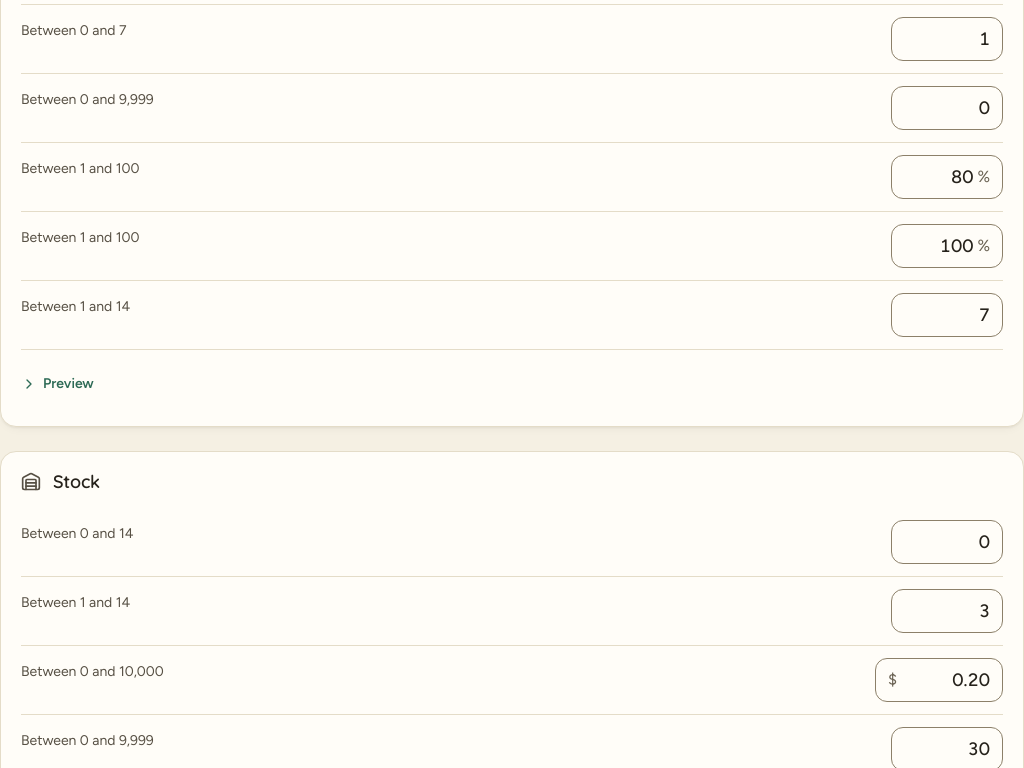
Test: Preview collapsibles (acceptance 13, failure mode 11) › Supplier & futures: clicking Preview opens it and shows the preview
(page scrolled)
Click the heading "Preview".
click(57, 384)  # box [21,375,94,392]
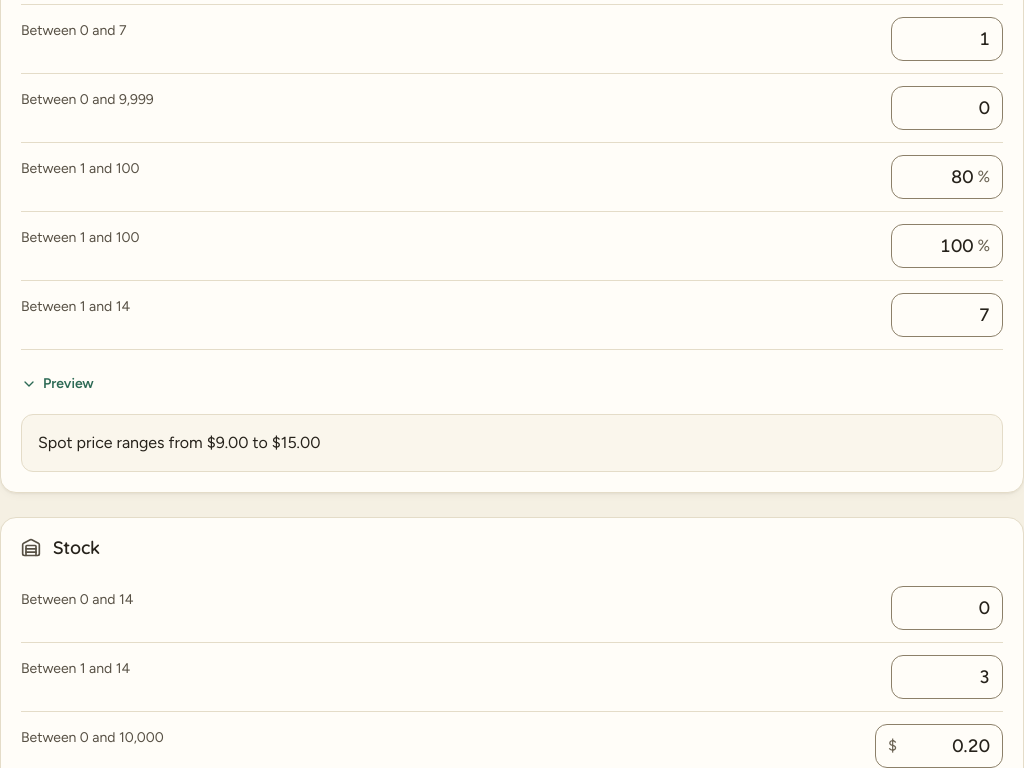
Now the text "Spot price ranges from $9.00 to $15.00" is shown, box [38,433,320,452]
